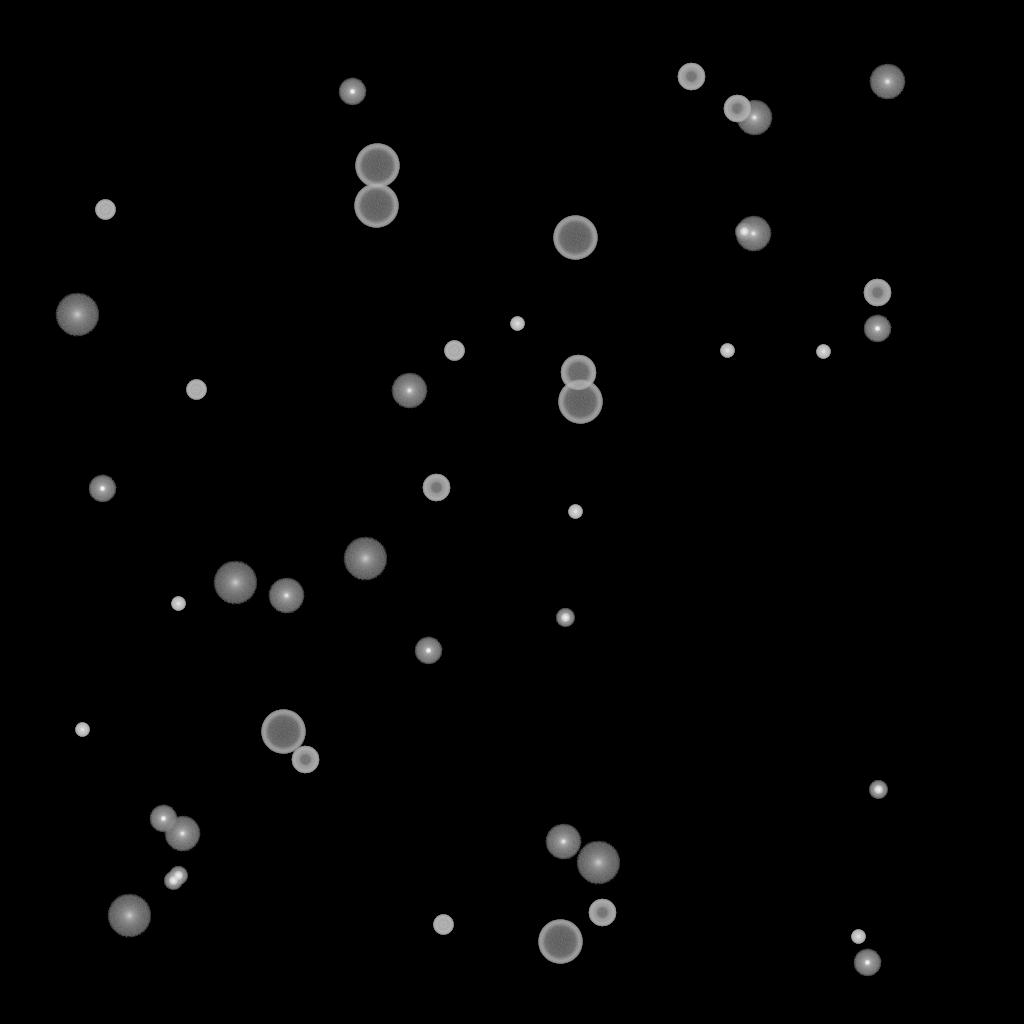depth:-10: (414, 637, 442, 665), (88, 475, 116, 503), (149, 805, 177, 833), (853, 949, 881, 977), (338, 78, 366, 106), (863, 315, 891, 343)
depth:-20: (169, 867, 187, 885), (164, 872, 182, 890), (735, 223, 753, 241), (869, 781, 887, 799), (556, 609, 574, 627)
depth:-30: (75, 723, 89, 737), (568, 505, 582, 519), (510, 317, 524, 331), (720, 344, 734, 358), (171, 597, 185, 611), (816, 345, 830, 359), (851, 930, 865, 944)
depth:-40: (433, 915, 453, 935), (444, 341, 464, 361), (186, 380, 206, 400), (95, 200, 115, 220)
depth:-50: (588, 899, 616, 927), (863, 279, 891, 307), (422, 474, 450, 502), (677, 63, 705, 91), (291, 746, 319, 774), (723, 95, 751, 123)
depth:-60: (560, 355, 596, 391)
depth:-70: (355, 144, 399, 188), (354, 184, 398, 228), (558, 380, 602, 424), (261, 710, 305, 754), (538, 920, 582, 964), (553, 216, 597, 260)
depth:0: (164, 816, 200, 852), (735, 216, 771, 252), (391, 373, 427, 409), (736, 100, 772, 136), (869, 64, 905, 100), (545, 824, 581, 860), (268, 578, 304, 614)
depth:10: (213, 561, 257, 605), (55, 293, 99, 337), (107, 894, 151, 938), (343, 537, 387, 581), (576, 841, 620, 885)
